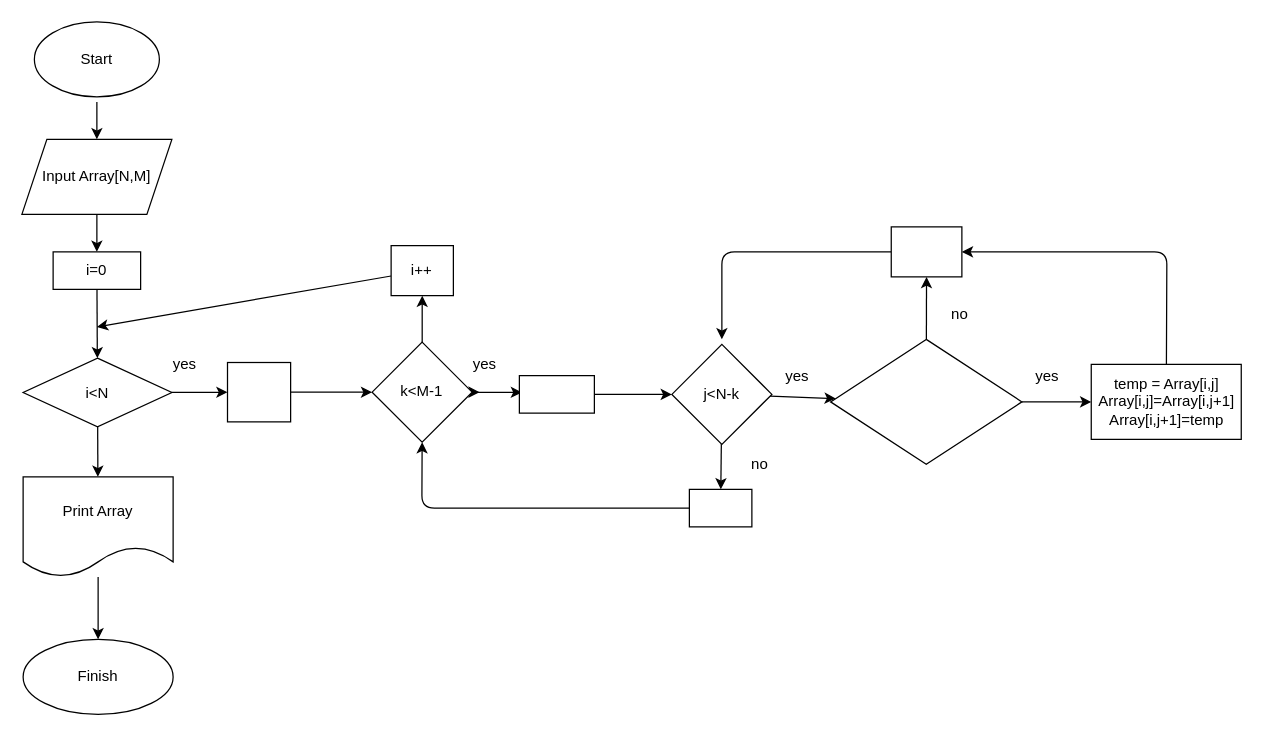
This 1264x736 diagram has some shape labels left out. The shapes that lost their labels are listed below. From the top down, each one's box as (x1, y1, x2, y2) in pixels, then its label:
(890, 226, 962, 277): j++
(226, 361, 291, 422): k=0
(518, 374, 594, 413): j=0
(829, 338, 1022, 464): Array[i,j]<Array[i, j+1]
(688, 488, 752, 527): k++
